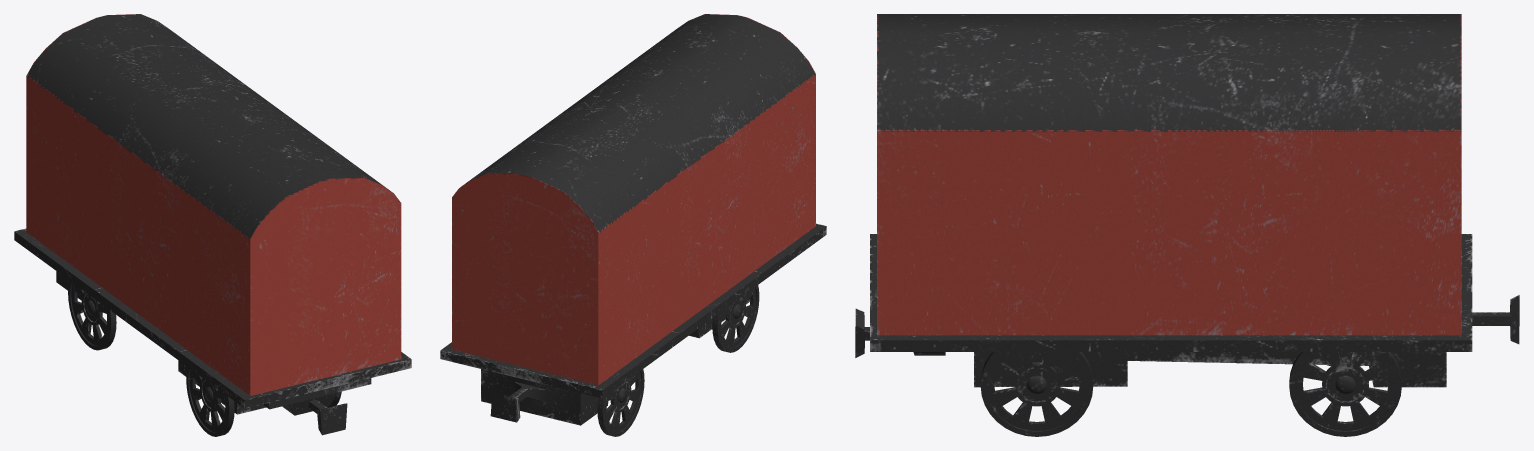
The model's file is wagon.glb.
3 views of the same model, side by side, from view 1: azimuth 30°, elevation 25°; view 2: azimuth 150°, elevation 25°; view 3: azimuth 270°, elevation 25° (orthographic). The views are drawn at different scales.
Parts seen in each view (by area): view 1: Cube, Plane.003, Circle.013, Circle.011; view 2: Cube, Plane.003, Circle.013, Circle.011; view 3: Cube, Plane.003, Circle.010, Circle.012.
Boxes of the visible parts, x1,y1,x2,y2 form: Cube: (26,14,401,395); Plane.003: (14,228,411,435); Circle.013: (68,280,116,350); Circle.011: (186,367,234,436); Cube: (452,14,815,385); Plane.003: (440,223,826,425); Circle.013: (597,369,644,436); Circle.011: (712,285,759,352); Cube: (877,14,1461,335); Plane.003: (855,234,1519,387); Circle.010: (980,352,1093,436); Circle.012: (1289,352,1401,436).
Size of the model in its own units: 155 by 252 by 409.
Materials: 1 (1 with a texture image).
